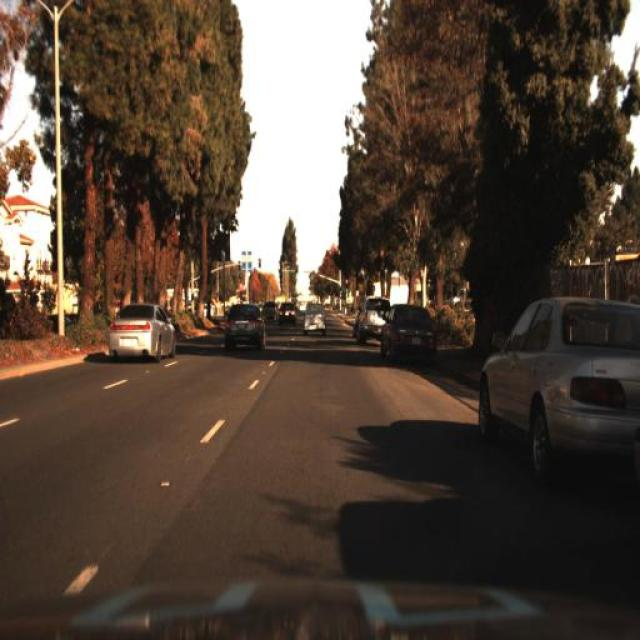car: (476, 296, 640, 484), (106, 304, 178, 364), (375, 299, 439, 360), (218, 300, 272, 354), (356, 292, 390, 346), (301, 301, 328, 335), (275, 299, 299, 332), (258, 299, 280, 330)
